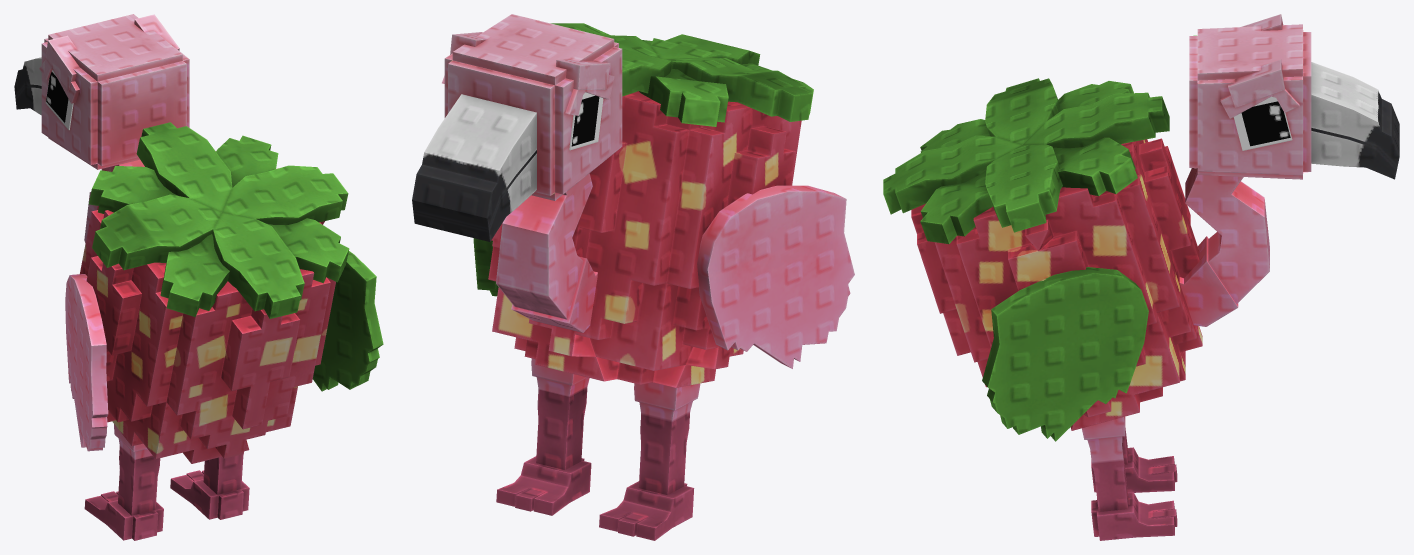
Rendered from Strawberrelli Flamingelli.fbx.
3 renders of one model, left to right at view 1: azimuth 30°, elevation 25°; view 2: azimuth 150°, elevation 25°; view 3: azimuth 270°, elevation 25°, orthographic. The views are drawn at different scales.
Parts seen in each view (by area): view 1: Strawberrelli Flamingelli; view 2: Strawberrelli Flamingelli; view 3: Strawberrelli Flamingelli.
Part boxes in pixels (<box>): Strawberrelli Flamingelli: <box>14,14,383,540</box>; Strawberrelli Flamingelli: <box>412,14,854,540</box>; Strawberrelli Flamingelli: <box>883,14,1399,540</box>.
Size of the model in its own units: 358 by 515 by 515.
